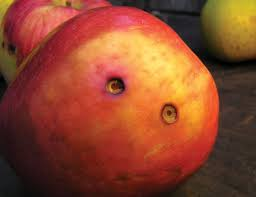damaged_apple: (36, 23, 217, 178)
